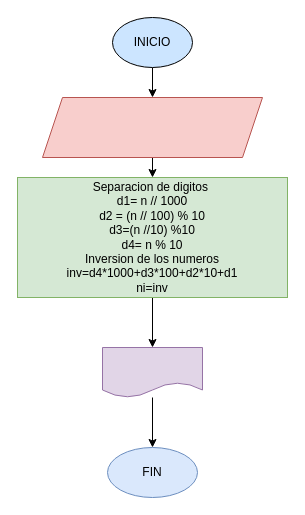
This 305x515 diagram has some shape labels left out. Here are the shapes that lost their labels. From the top down, the centre of each, then its label:
(x=152, y=127): n (numero entero de 4 digitos)
(x=152, y=372): ni
